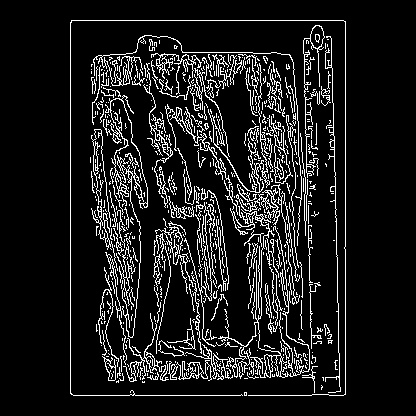buddha-standing: (102, 206, 251, 302)
